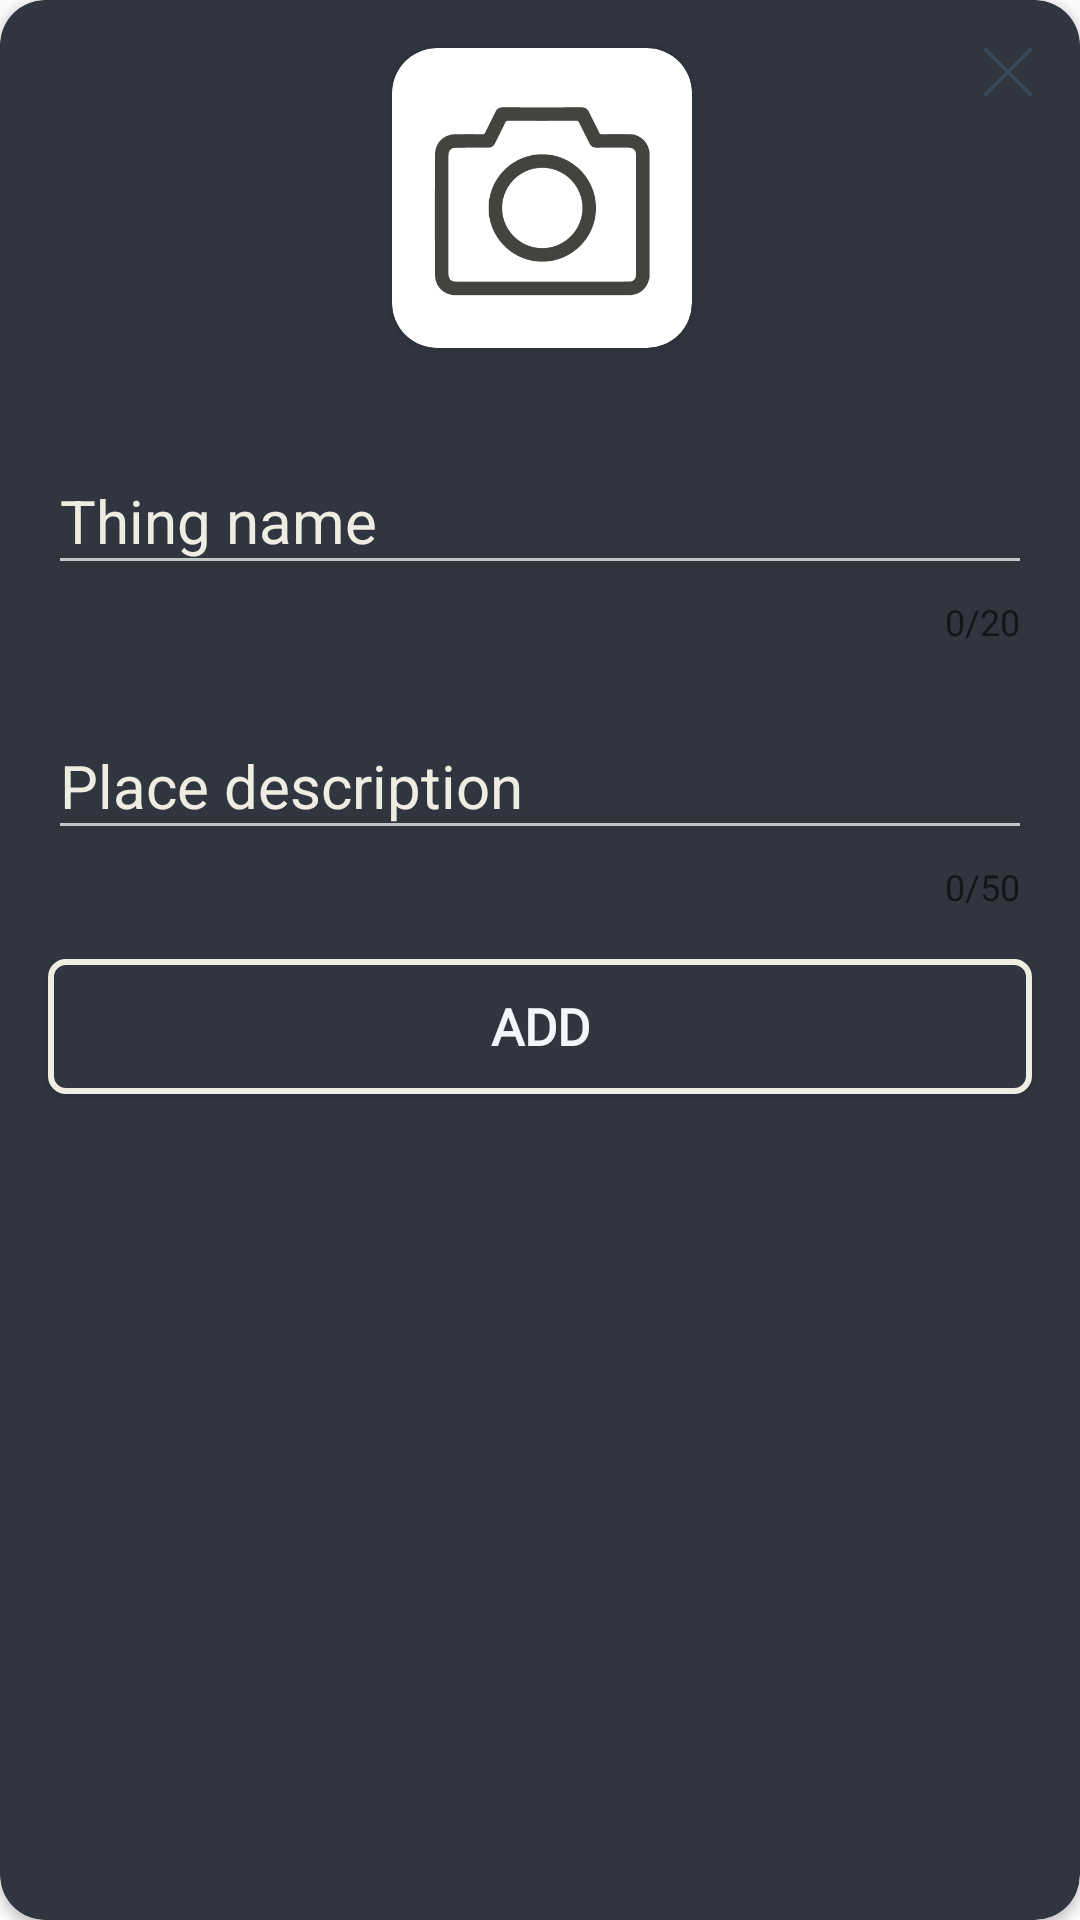

Icon bounding boxes for this 1080 × 1920 phone screenshot, format (x1, y1, x2, y2):
take photo: (392, 48, 692, 348)
